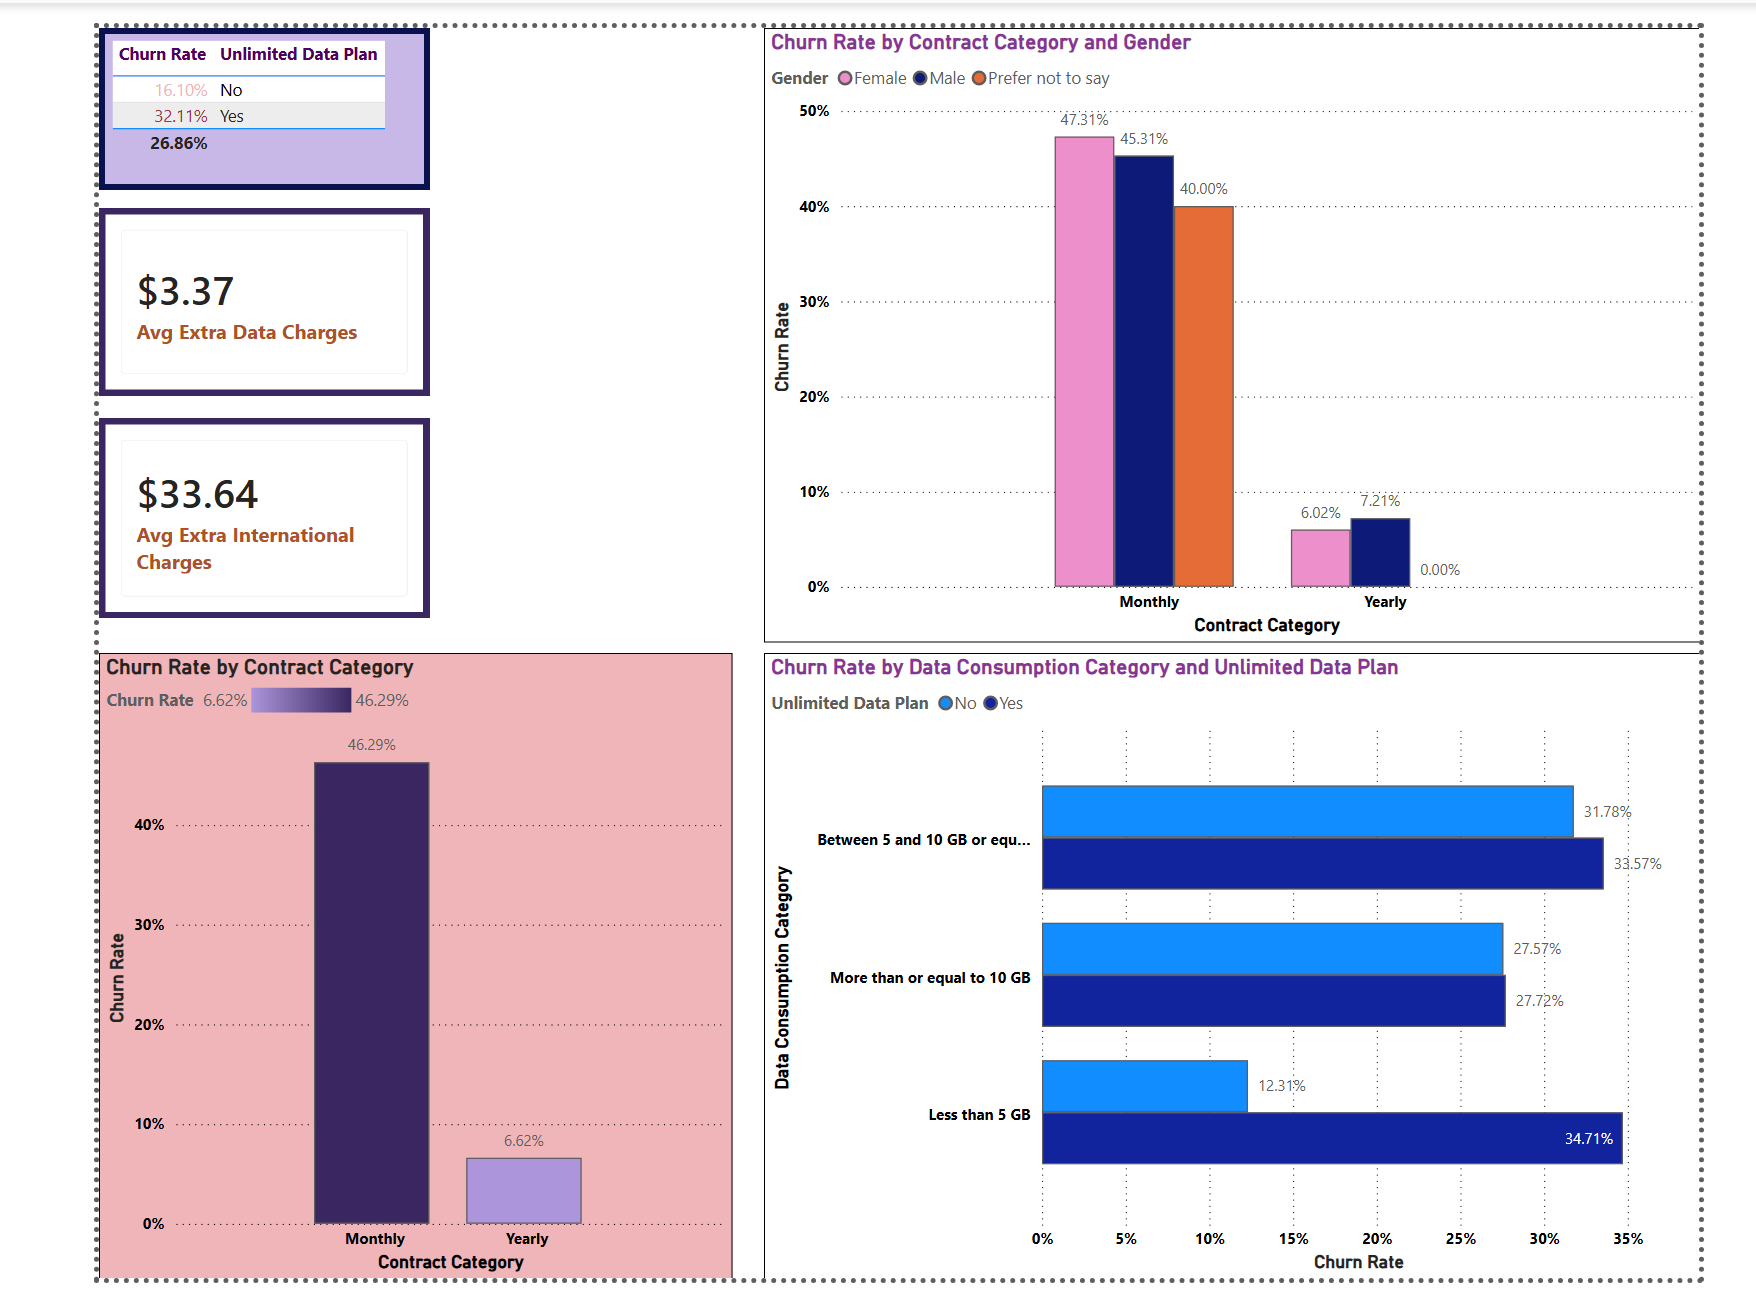

The page's visual inventory and layout, read from the dashboard file:
{"tool":"powerbi","page":{"name":"Churn rate by Contract Category , Gender and Data Consumption","canvas":[1280,720],"ordinal":2},"visuals":[{"type":"clusteredColumnChart","fields":{"Y":["_Measure.Churn Rate"],"Category":["Churn_fact.Contract Category"]},"box":[1.4,384.1,506.3,336.1],"z":0},{"type":"clusteredColumnChart","fields":{"Category":["Churn_fact.Contract Category"],"Series":["Churn_fact.Gender"],"Y":["_Measure.Churn Rate"]},"box":[532.3,0,747.7,307.3],"z":1000},{"type":"tableEx","fields":{"Values":["_Measure.Churn Rate","Churn_fact.Unlimited Data Plan"]},"box":[0,0,264.9,129.6],"z":2000},{"type":"clusteredBarChart","fields":{"Y":["_Measure.Churn Rate"],"Category":["Churn_fact.Data Consumption Category"],"Series":["Churn_fact.Unlimited Data Plan"]},"box":[532.3,333.4,747.7,386.9],"z":3000},{"type":"cardVisual","fields":{"Data":["_Measure.Avg Extra Data Charges"]},"box":[0,130.3,264.8,127.6],"z":3001},{"type":"cardVisual","fields":{"Data":["_Measure.Avg Extra International Charges"]},"box":[0,257.9,264.8,122.1],"z":3002},{"type":"textbox","box":[285,183.3,221.7,150],"z":3003}]}

Visuals, with their boxes on the page's 1280x720 design canvas (x1, y1, x2, y2). These are canvas units, not pixel positions in the 1756x1307 screenshot, which may show the page scaled, cropped or inside an application window:
clusteredColumnChart - _Measure.Churn Rate x Churn_fact.Contract Category: box=[1, 384, 508, 720]
clusteredColumnChart - Churn_fact.Contract Category x Churn_fact.Gender: box=[532, 0, 1280, 307]
tableEx - _Measure.Churn Rate x Churn_fact.Unlimited Data Plan: box=[0, 0, 265, 130]
clusteredBarChart - _Measure.Churn Rate x Churn_fact.Data Consumption Category: box=[532, 333, 1280, 720]
cardVisual - _Measure.Avg Extra Data Charges: box=[0, 130, 265, 258]
cardVisual - _Measure.Avg Extra International Charges: box=[0, 258, 265, 380]
textbox: box=[285, 183, 507, 333]
